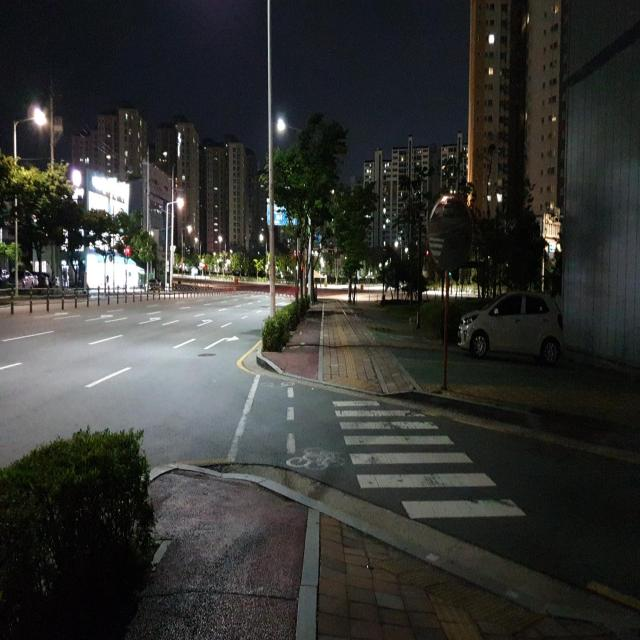횡단보도: (331, 397, 529, 522)
